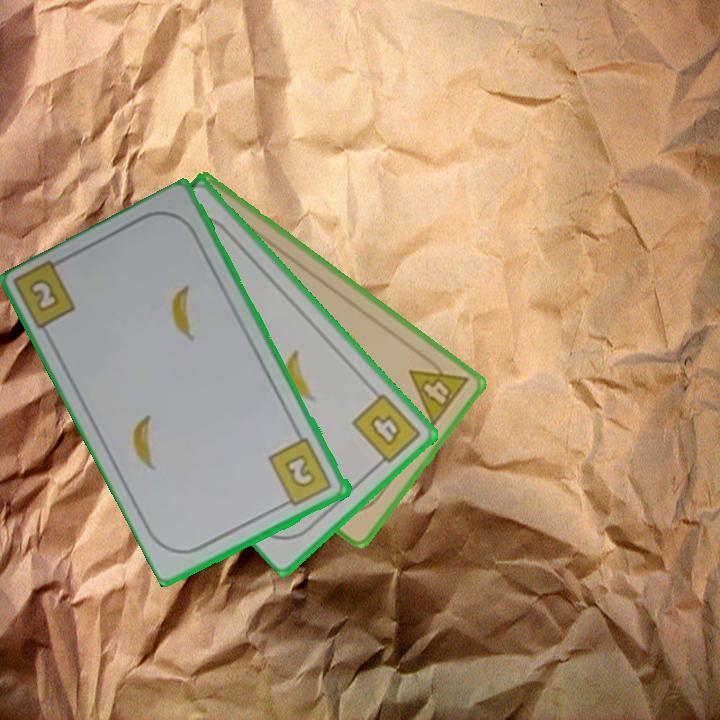2b: (265, 435, 336, 510), (29, 278, 59, 312)
4b: (349, 390, 424, 472)
4p: (405, 350, 472, 430)
